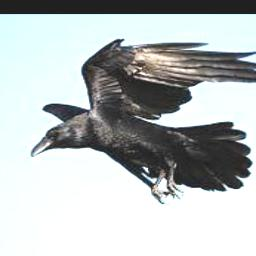Crow: (33, 37, 256, 205)
